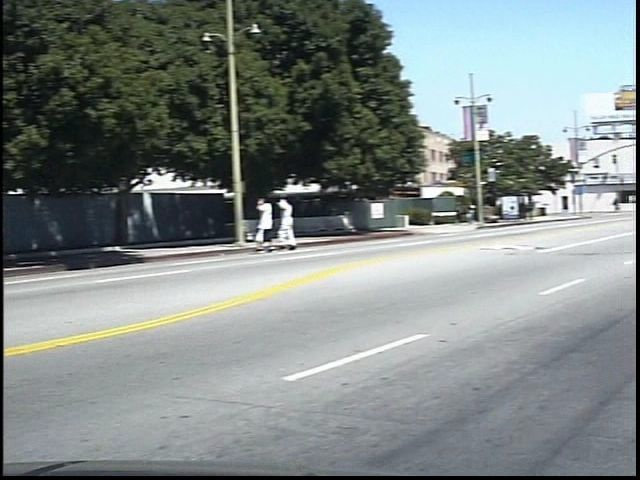person: (269, 193, 295, 256), (290, 195, 316, 256)
